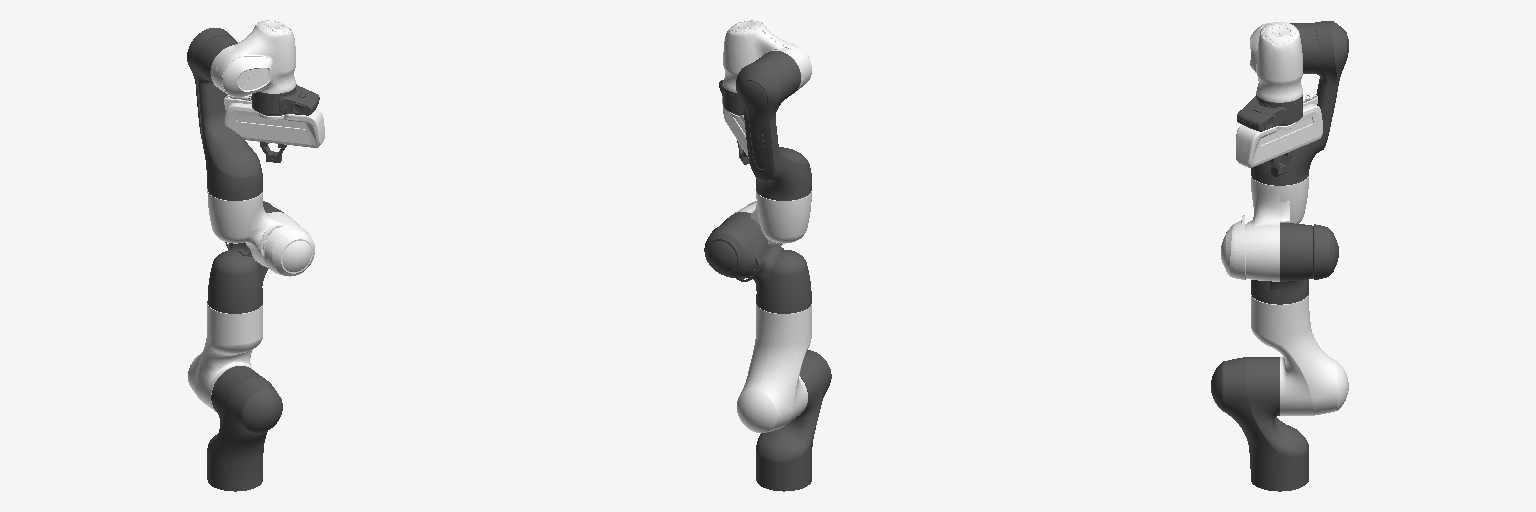
robot.urdf — panda:
<?xml version="1.0" ?>
<robot name="panda" xmlns:xacro="http://www.ros.org/wiki/xacro">
    <link name="panda_link0">
        <visual>
            <geometry>
                <mesh filename="package://franka_description/meshes/visual/link0.stl" />
            </geometry>
			<material name="panda_white"/>
        </visual>
        <collision>
            <geometry>
                <mesh filename="package://franka_description/meshes/collision/link0.stl" />
            </geometry>
        </collision>
    </link>
    <link name="panda_link1">
        <visual>
            <geometry>
                <mesh filename="package://franka_description/meshes/visual/link1.stl" />
            </geometry>
			<material name="panda_black"/>
        </visual>
        <collision>
            <geometry>
                <mesh filename="package://franka_description/meshes/collision/link1.stl" />
            </geometry>
        </collision>
    </link>
    <joint name="panda_joint1" type="revolute">
        <safety_controller k_position="100.0" k_velocity="40.0" soft_lower_limit="-2.8973" soft_upper_limit="2.8973" />
        <origin rpy="0 0 0" xyz="0 0 0.333" />
        <parent link="panda_link0" />
        <child link="panda_link1" />
        <axis xyz="0 0 1" />
        <limit effort="87" lower="-2.8973" upper="2.8973" velocity="2.1750" />
    </joint>
    <link name="panda_link2">
        <visual>
            <geometry>
                <mesh filename="package://franka_description/meshes/visual/link2.stl" />
            </geometry>
			<material name="panda_white"/>
        </visual>
        <collision>
            <geometry>
                <mesh filename="package://franka_description/meshes/collision/link2.stl" />
            </geometry>
        </collision>
    </link>
    <joint name="panda_joint2" type="revolute">
        <safety_controller k_position="100.0" k_velocity="40.0" soft_lower_limit="-1.7628" soft_upper_limit="1.7628" />
        <origin rpy="-1.57079632679 0 0" xyz="0 0 0" />
        <parent link="panda_link1" />
        <child link="panda_link2" />
        <axis xyz="0 0 1" />
        <limit effort="87" lower="-1.7628" upper="1.7628" velocity="2.1750" />
    </joint>
    <link name="panda_link3">
        <visual>
            <geometry>
                <mesh filename="package://franka_description/meshes/visual/link3.stl" />
            </geometry>
			<material name="panda_black"/>
        </visual>
        <collision>
            <geometry>
                <mesh filename="package://franka_description/meshes/collision/link3.stl" />
            </geometry>
        </collision>
    </link>
    <joint name="panda_joint3" type="revolute">
        <safety_controller k_position="100.0" k_velocity="40.0" soft_lower_limit="-2.8973" soft_upper_limit="2.8973" />
        <origin rpy="1.57079632679 0 0" xyz="0 -0.316 0" />
        <parent link="panda_link2" />
        <child link="panda_link3" />
        <axis xyz="0 0 1" />
        <limit effort="87" lower="-2.8973" upper="2.8973" velocity="2.1750" />
    </joint>
    <link name="panda_link4">
        <visual>
            <geometry>
                <mesh filename="package://franka_description/meshes/visual/link4.stl" />
            </geometry>
			<material name="panda_white"/>
        </visual>
        <collision>
            <geometry>
                <mesh filename="package://franka_description/meshes/collision/link4.stl" />
            </geometry>
        </collision>
    </link>
    <joint name="panda_joint4" type="revolute">
        <safety_controller k_position="100.0" k_velocity="40.0" soft_lower_limit="-3.0718" soft_upper_limit="0.0175" />
        <origin rpy="1.57079632679 0 0" xyz="0.0825 0 0" />
        <parent link="panda_link3" />
        <child link="panda_link4" />
        <axis xyz="0 0 1" />
        <limit effort="87" lower="-3.0718" upper="0.0873" velocity="2.1750" />
    </joint>
    <link name="panda_link5">
        <visual>
            <geometry>
                <mesh filename="package://franka_description/meshes/visual/link5.stl" />
            </geometry>
			<material name="panda_black"/>
        </visual>
        <collision>
            <geometry>
                <mesh filename="package://franka_description/meshes/collision/link5.stl" />
            </geometry>
        </collision>
    </link>
    <joint name="panda_joint5" type="revolute">
        <safety_controller k_position="100.0" k_velocity="40.0" soft_lower_limit="-2.8973" soft_upper_limit="2.8973" />
        <origin rpy="-1.57079632679 0 0" xyz="-0.0825 0.384 0" />
        <parent link="panda_link4" />
        <child link="panda_link5" />
        <axis xyz="0 0 1" />
        <limit effort="12" lower="-2.8973" upper="2.8973" velocity="2.6100" />
    </joint>
    <link name="panda_link6">
        <visual>
            <geometry>
                <mesh filename="package://franka_description/meshes/visual/link6.stl" />
            </geometry>
			<material name="panda_white"/>
        </visual>
        <collision>
            <geometry>
                <mesh filename="package://franka_description/meshes/collision/link6.stl" />
            </geometry>
        </collision>
    </link>
    <joint name="panda_joint6" type="revolute">
        <safety_controller k_position="100.0" k_velocity="40.0" soft_lower_limit="-0.0175" soft_upper_limit="3.7525" />
        <origin rpy="1.57079632679 0 0" xyz="0 0 0" />
        <parent link="panda_link5" />
        <child link="panda_link6" />
        <axis xyz="0 0 1" />
        <limit effort="12" lower="-0.0175" upper="3.7525" velocity="2.6100" />
    </joint>
    <link name="panda_link7">
        <visual>
            <geometry>
                <mesh filename="package://franka_description/meshes/visual/link7.stl" />
            </geometry>
			<material name="panda_black"/>
        </visual>
        <collision>
            <geometry>
                <mesh filename="package://franka_description/meshes/collision/link7.stl" />
            </geometry>
        </collision>
    </link>
    <joint name="panda_joint7" type="revolute">
        <safety_controller k_position="100.0" k_velocity="40.0" soft_lower_limit="-2.8973" soft_upper_limit="2.8973" />
        <origin rpy="1.57079632679 0 0" xyz="0.088 0 0" />
        <parent link="panda_link6" />
        <child link="panda_link7" />
        <axis xyz="0 0 1" />
        <limit effort="12" lower="-2.8973" upper="2.8973" velocity="2.6100" />
    </joint>
    <link name="panda_link8" />
    <joint name="panda_joint8" type="fixed">
        <origin rpy="0 0 0" xyz="0 0 0.107" />
        <parent link="panda_link7" />
        <child link="panda_link8" />
        <axis xyz="0 0 0" />
    </joint>
    <joint name="panda_hand_joint" type="fixed">
        <parent link="panda_link8" />
        <child link="panda_hand" />
        <origin rpy="0 0 -0.785398163397" xyz="0 0 0" />
    </joint>
    <link name="panda_hand">
        <visual>
            <geometry>
                <mesh filename="package://franka_description/meshes/visual/hand.stl" />
            </geometry>
			<material name="panda_white"/>
        </visual>
        <collision>
            <geometry>
                <mesh filename="package://franka_description/meshes/collision/hand.stl" />
            </geometry>
        </collision>
    </link>
    <link name="panda_leftfinger">
        <visual>
            <geometry>
                <mesh filename="package://franka_description/meshes/visual/finger.stl" />
            </geometry>
			<material name="panda_black"/>
        </visual>
        <collision>
            <geometry>
                <mesh filename="package://franka_description/meshes/collision/finger.stl" />
            </geometry>
        </collision>
    </link>
    <link name="panda_rightfinger">
        <visual>
            <origin rpy="0 0 3.14159265359" xyz="0 0 0" />
            <geometry>
                <mesh filename="package://franka_description/meshes/visual/finger.stl" />
            </geometry>
			<material name="panda_black"/>
        </visual>
        <collision>
            <origin rpy="0 0 3.14159265359" xyz="0 0 0" />
            <geometry>
                <mesh filename="package://franka_description/meshes/collision/finger.stl" />
            </geometry>
        </collision>
    </link>
    <joint name="panda_finger_joint1" type="prismatic">
        <parent link="panda_hand" />
        <child link="panda_leftfinger" />
        <origin rpy="0 0 0" xyz="0 0 0.0584" />
        <axis xyz="0 1 0" />
        <limit effort="20" lower="0.0" upper="0.04" velocity="0.2" />
    </joint>
    <joint name="panda_finger_joint2" type="prismatic">
        <parent link="panda_hand" />
        <child link="panda_rightfinger" />
        <origin rpy="0 0 0" xyz="0 0 0.0584" />
        <axis xyz="0 -1 0" />
        <limit effort="20" lower="0.0" upper="0.04" velocity="0.2" />
        <mimic joint="panda_finger_joint1" />
    </joint>
	<material name="panda_white">
		<color rgba="1 1 1 1"/>
	</material>
	<material name="panda_black">
		<color rgba="0.4 0.4 0.4 1"/>
	</material>
</robot>

--- Render facts (derived) ---
3 views of the same robot in one strip: view 1: azimuth 30°, elevation 25°; view 2: azimuth 150°, elevation 25°; view 3: azimuth 270°, elevation 25° (orthographic).
Model panda with 12 links and 11 joints (7 revolute, 2 prismatic, 2 fixed), rooted at panda_link0, posed every joint at zero.
Visible links, largest first — view 1: panda_link1, panda_link5, panda_link4, panda_link6, panda_link2, panda_link3, panda_hand, panda_link7; view 2: panda_link5, panda_link2, panda_link3, panda_link1, panda_link6, panda_link4, panda_hand; view 3: panda_link1, panda_link2, panda_link4, panda_link5, panda_link3, panda_link6, panda_hand, panda_link7.
Link boxes in pixels (bbox=[...]): panda_link1: bbox=[207, 366, 282, 491]; panda_link5: bbox=[187, 28, 262, 200]; panda_link4: bbox=[207, 189, 314, 276]; panda_link6: bbox=[211, 20, 295, 96]; panda_link2: bbox=[188, 303, 262, 411]; panda_link3: bbox=[207, 201, 283, 313]; panda_hand: bbox=[224, 95, 324, 147]; panda_link7: bbox=[248, 84, 319, 115]; panda_link5: bbox=[736, 51, 811, 200]; panda_link2: bbox=[737, 304, 811, 432]; panda_link3: bbox=[704, 212, 811, 313]; panda_link1: bbox=[756, 350, 831, 491]; panda_link6: bbox=[723, 20, 811, 92]; panda_link4: bbox=[734, 191, 811, 245]; panda_hand: bbox=[722, 96, 748, 157]; panda_link1: bbox=[1211, 357, 1308, 491]; panda_link2: bbox=[1251, 295, 1348, 415]; panda_link4: bbox=[1221, 176, 1308, 281]; panda_link5: bbox=[1251, 21, 1348, 185]; panda_link3: bbox=[1251, 223, 1338, 304]; panda_link6: bbox=[1250, 22, 1302, 102]; panda_hand: bbox=[1236, 94, 1322, 167]; panda_link7: bbox=[1237, 94, 1302, 131].
Bounding box of the posed robot: 0.2262 × 0.2593 × 0.9737 m (x, y, z).
10 mesh visuals loaded from 10 distinct referenced files (9 binary STL); not drawn: 1 (reference not matched to a file when rendering).